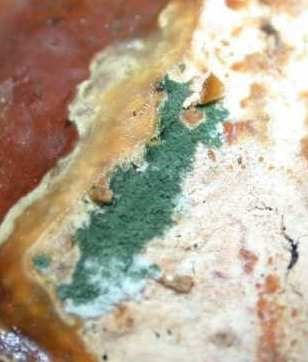Trichoderma: (129, 83, 208, 211), (72, 203, 154, 305)
